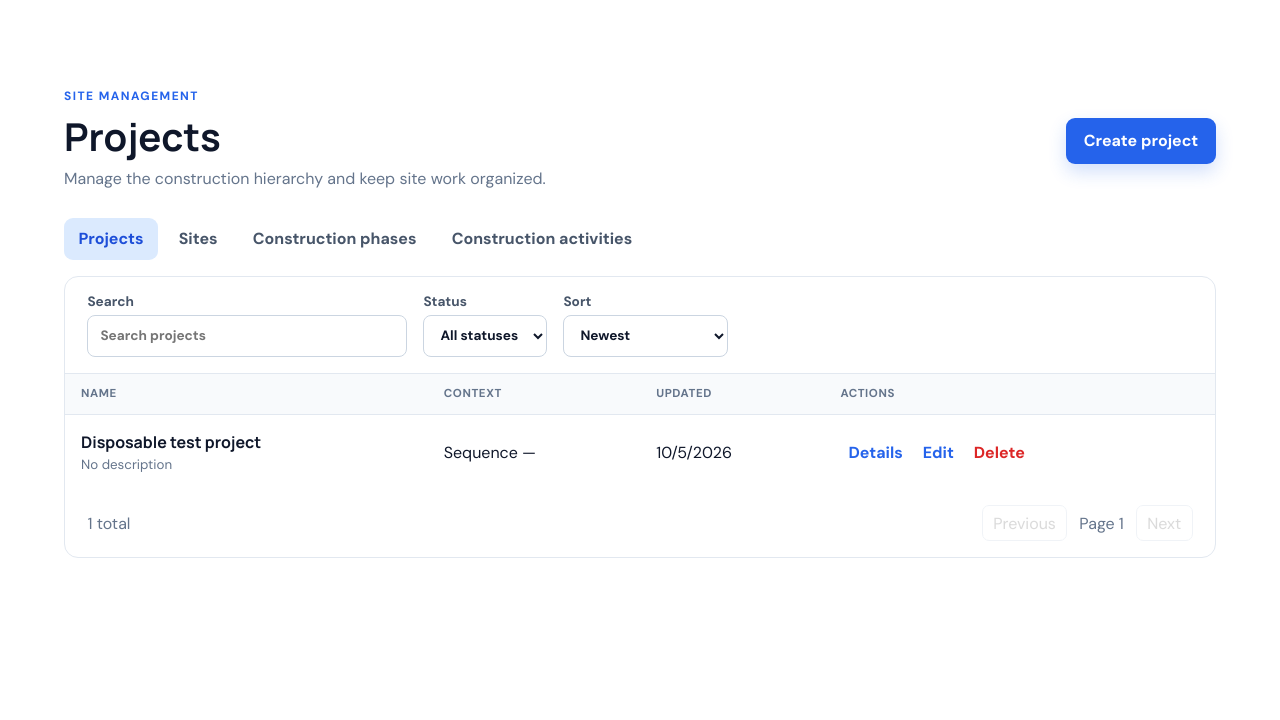
it: blocked deletion displays the server reason and keeps the project
Click the button "Delete" at (999, 452), box [966,434,1033,470]
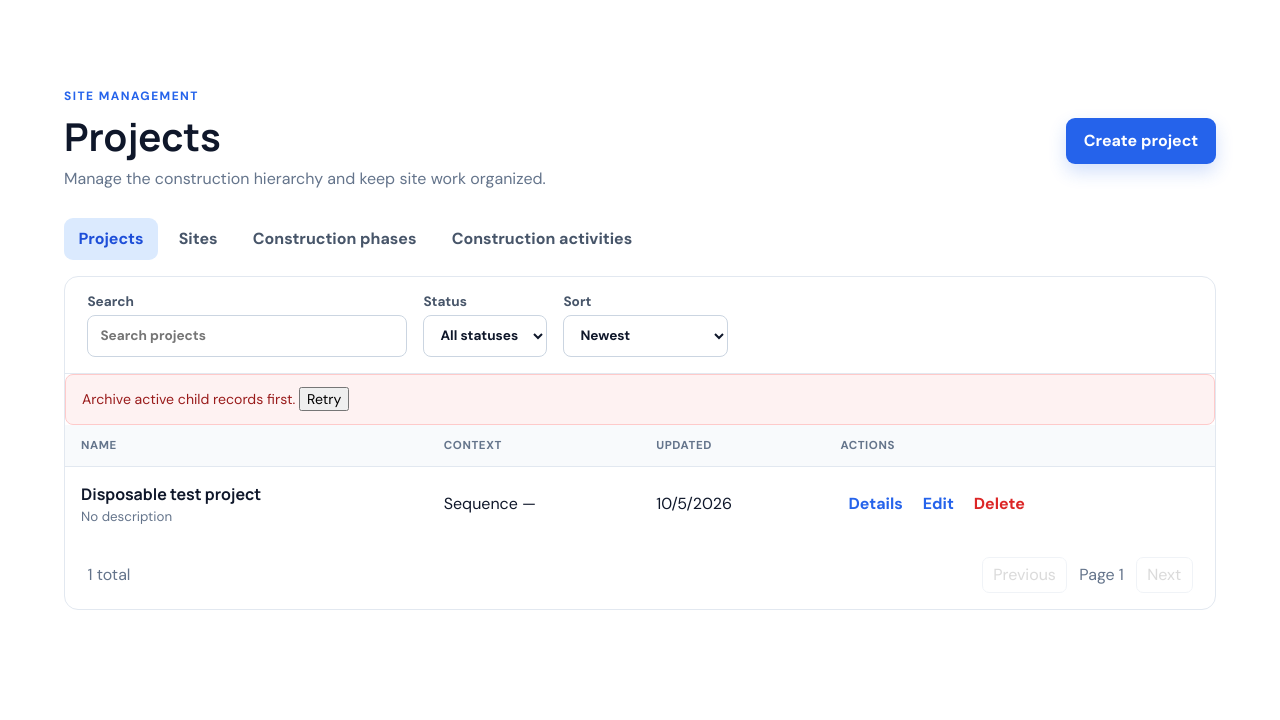
Expected: the text "Disposable test project" is shown, [81,483,261,505]
Now the message shows "Archive active child records first.", box [82,390,295,408]
